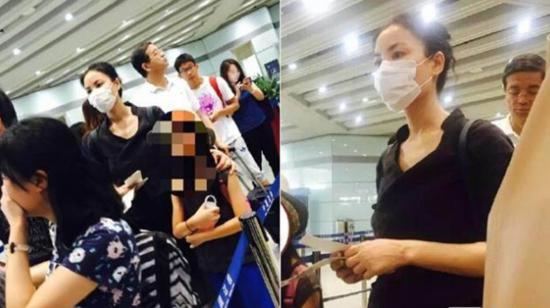NONE: (506, 81, 545, 122), (148, 47, 171, 73), (180, 62, 198, 83), (228, 67, 242, 85)
OK: (371, 39, 444, 112), (86, 79, 118, 112)
